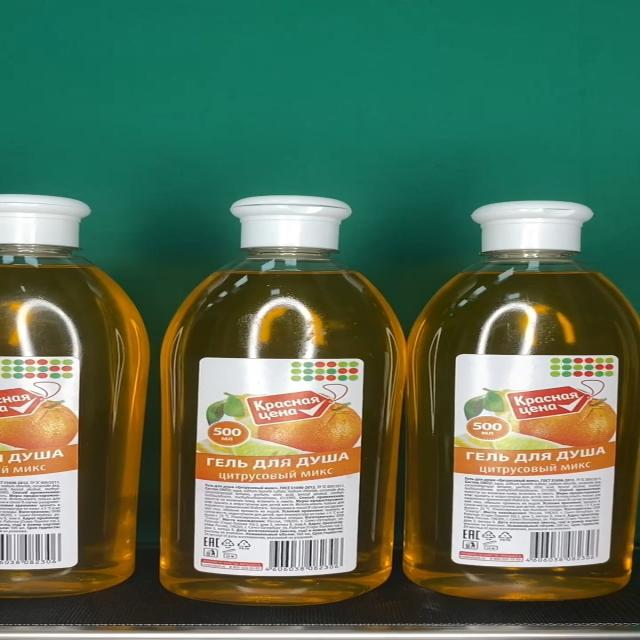Bottle: (160, 195, 408, 605), (404, 199, 640, 600)
Cap: (468, 200, 593, 253), (230, 196, 353, 249)
